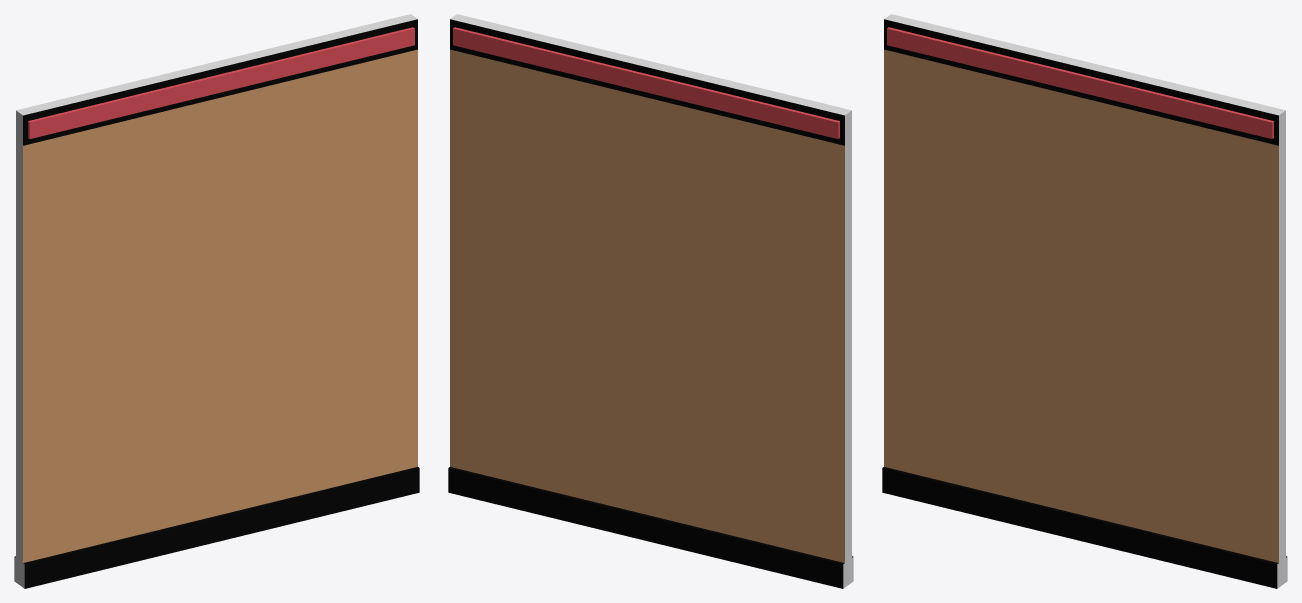
File: wall.glb
The picture shows the model from 3 angles, left to right: view 1: azimuth 30°, elevation 25°; view 2: azimuth 150°, elevation 25°; view 3: azimuth 330°, elevation 25°; orthographic projection.
Visible parts, largest first — view 1: Cube.002; view 2: Cube.002; view 3: Cube.002.
Boxes of the visible parts, box(x1,y1,x2,y2) form: Cube.002: box(14, 14, 419, 588); Cube.002: box(448, 14, 853, 588); Cube.002: box(882, 14, 1287, 588).
Size of the model in its own units: 2.8 by 3.2 by 0.1335.
